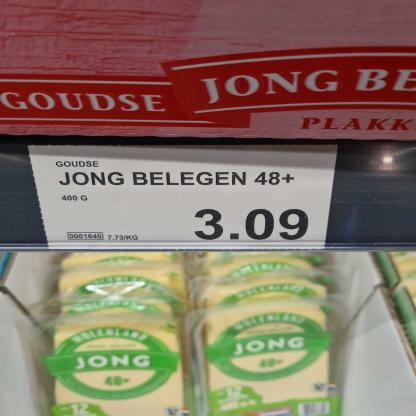prtg: (29, 145, 340, 251)
